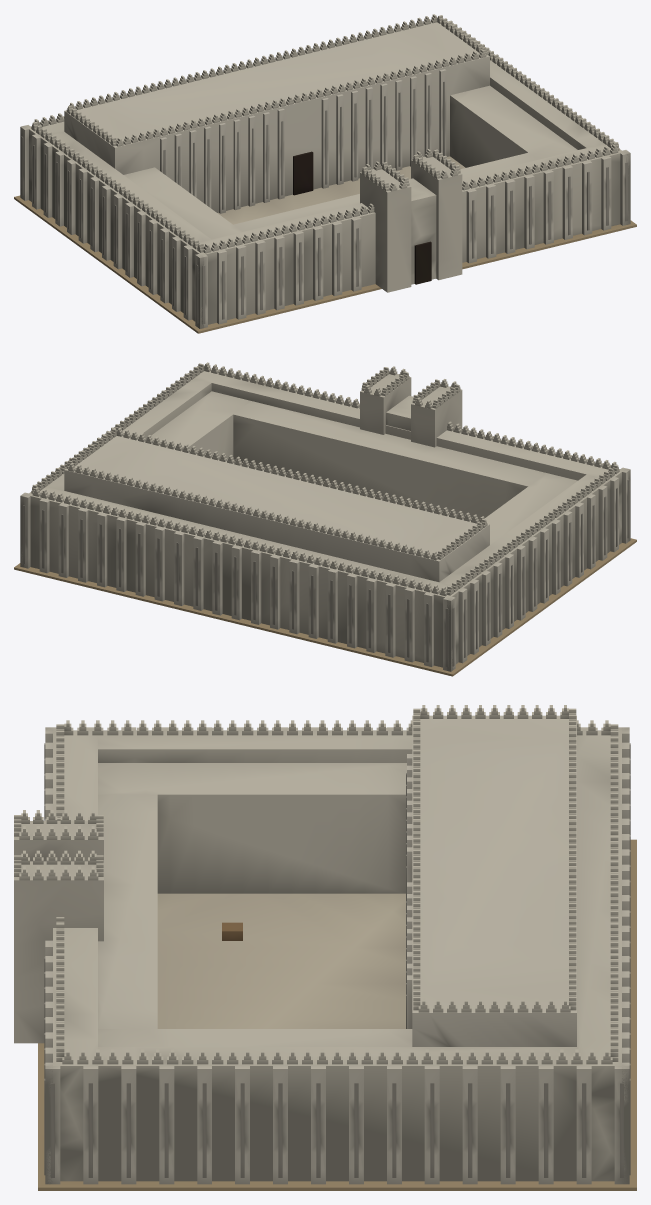
File: emah.glb
3 renders of one model, top to bottom at view 1: azimuth 30°, elevation 25°; view 2: azimuth 150°, elevation 25°; view 3: azimuth 270°, elevation 25°, orthographic. The views are drawn at different scales.
Visible parts, largest first — view 1: p1_court and cella, p0_walls, p2_gate towers; view 2: p0_walls, p1_court and cella, p2_gate towers; view 3: p1_court and cella, p0_walls, p2_gate towers.
Boxes of the visible parts, x1,y1,x2,y2 form: p1_court and cella: (64, 22, 577, 239); p0_walls: (14, 23, 636, 333); p2_gate towers: (31, 14, 619, 292); p0_walls: (14, 365, 636, 676); p1_court and cella: (64, 391, 577, 582); p2_gate towers: (31, 362, 619, 596); p1_court and cella: (98, 715, 576, 1046); p0_walls: (38, 727, 636, 1190); p2_gate towers: (14, 705, 618, 1064).
Size of the model in its own units: 55 by 13.05 by 41.6.
